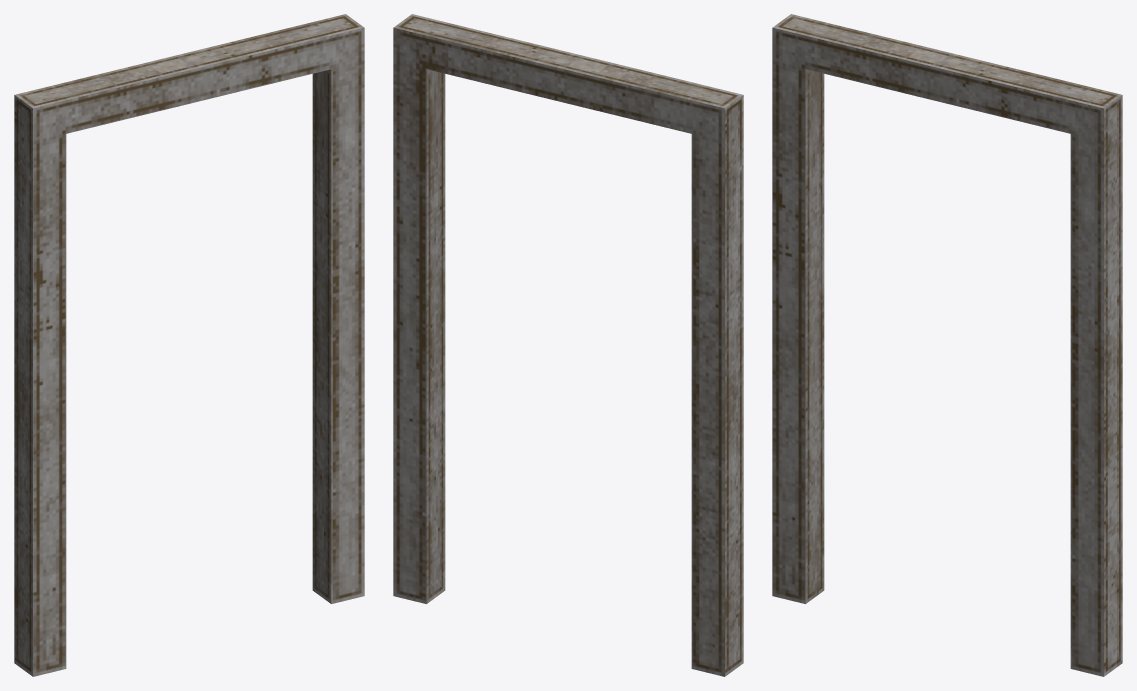
Rendered from DoorFrame.glb.
3 views of the same model, side by side, from view 1: azimuth 30°, elevation 25°; view 2: azimuth 150°, elevation 25°; view 3: azimuth 330°, elevation 25° (orthographic).
Parts seen in each view (by area): view 1: Cube.242; view 2: Cube.242; view 3: Cube.242.
Part boxes in pixels (left/top/right/bottom): Cube.242: left=14, top=14, right=364, bottom=676; Cube.242: left=393, top=14, right=743, bottom=676; Cube.242: left=772, top=14, right=1122, bottom=676.
Bounding box in the file's own units: 1.22 × 2 × 0.1188.
1 material, 1 textured.
